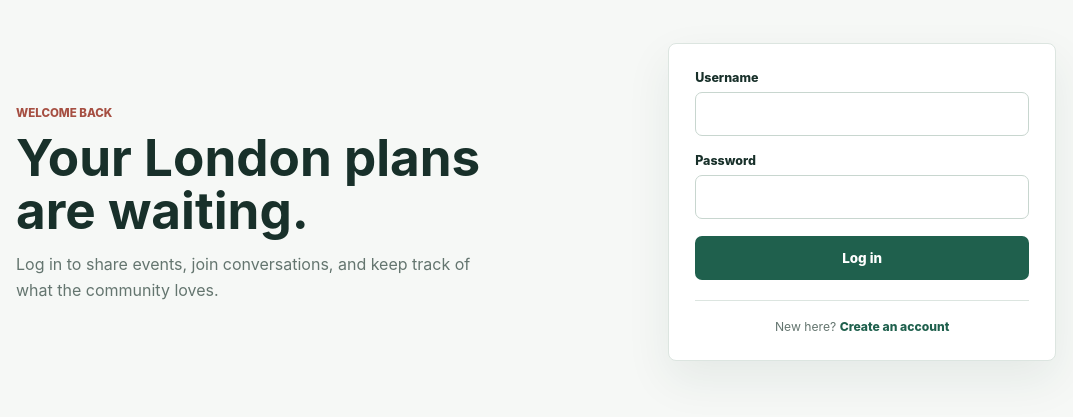
authentication pages › shows login errors returned by the auth provider
Type "citywalker" into the field labelled "Username".
click(862, 114); type("citywalker")  # box [695,92,1029,136]
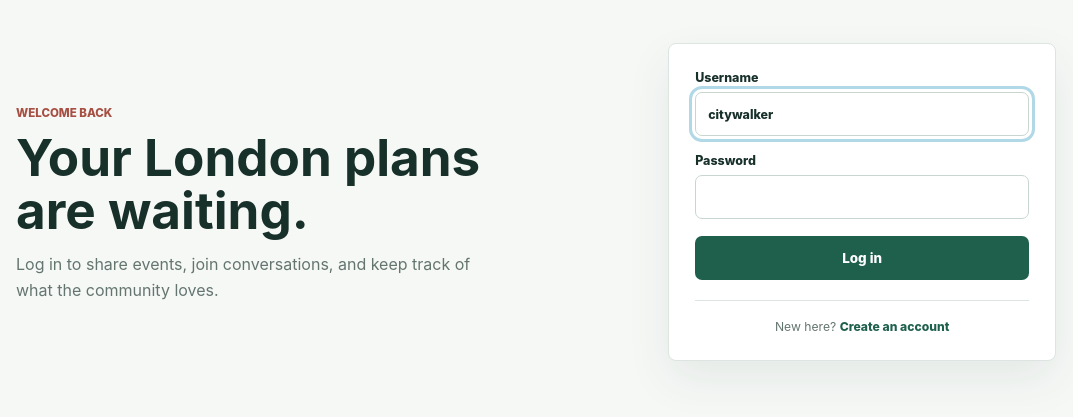
Type "WrongPassword1!" into the password field labelled "Password".
click(862, 197); type("WrongPassword1!")  # box [695,175,1029,219]
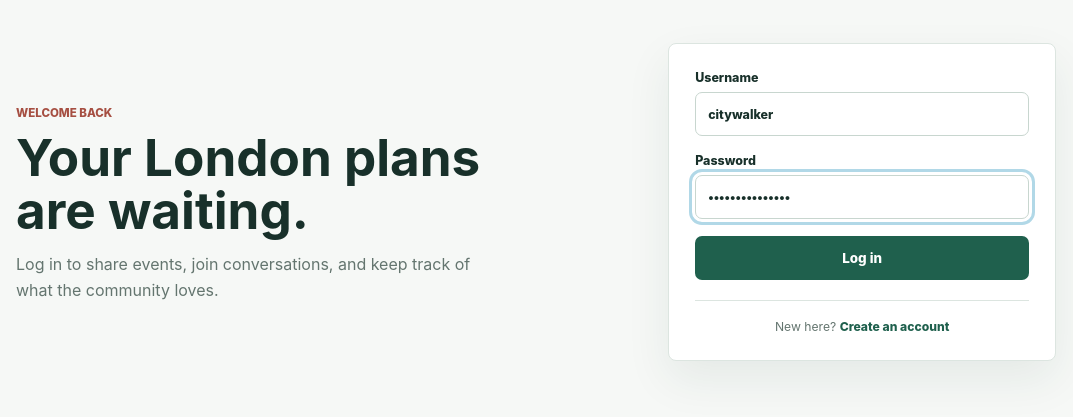
Click the button "Log in".
click(862, 258)  # box [695,236,1029,280]
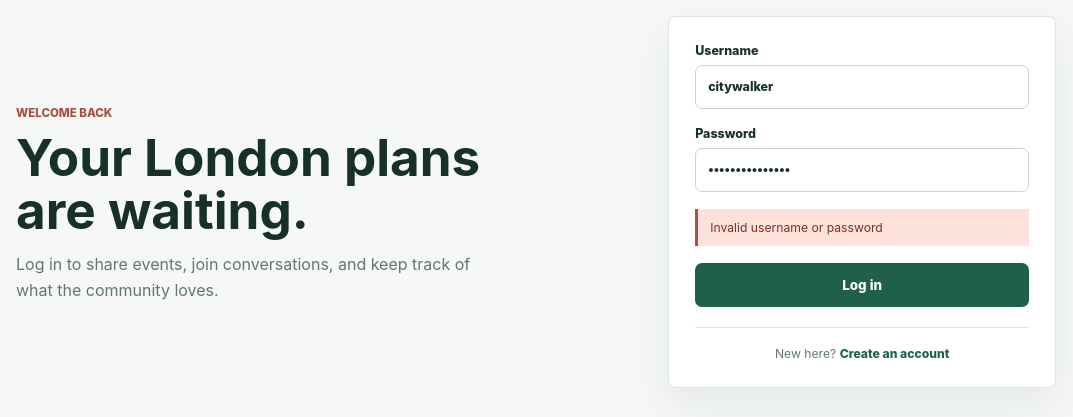
Check: the message reads "Invalid username or password", box [710,220,883,235]
